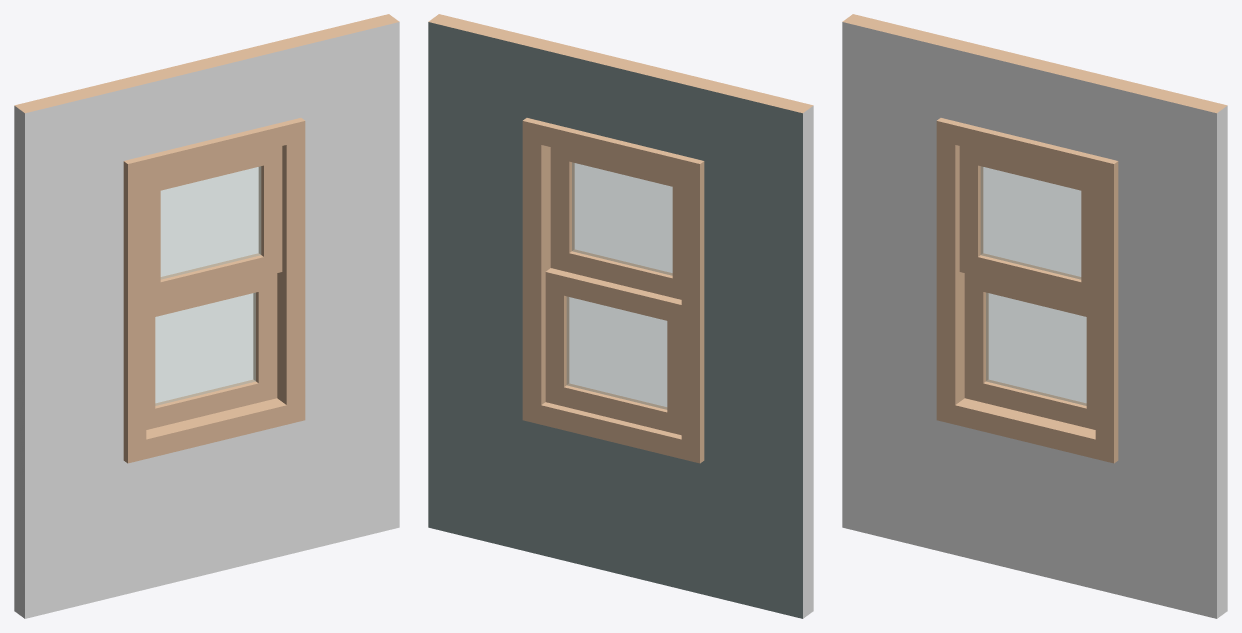
The model's file is wallWindowSlide.glb.
The picture shows the model from 3 angles, left to right: view 1: azimuth 30°, elevation 25°; view 2: azimuth 150°, elevation 25°; view 3: azimuth 330°, elevation 25°; orthographic projection.
Visible parts, largest first — view 1: wallWindowSlide(Clone), windowTop, windowBottom; view 2: wallWindowSlide(Clone), windowBottom, windowTop; view 3: wallWindowSlide(Clone), windowTop, windowBottom.
Part boxes in pixels (x1,y1,x2,y2): wallWindowSlide(Clone): (14, 14, 399, 618); windowTop: (146, 146, 282, 304); windowBottom: (146, 273, 277, 429); wallWindowSlide(Clone): (428, 14, 813, 618); windowBottom: (545, 268, 681, 435); windowTop: (550, 147, 681, 299); wallWindowSlide(Clone): (842, 14, 1227, 618); windowTop: (959, 146, 1095, 304); windowBottom: (964, 273, 1095, 429).
Bounding box in the file's own units: 2 × 2.58 × 0.1782.
